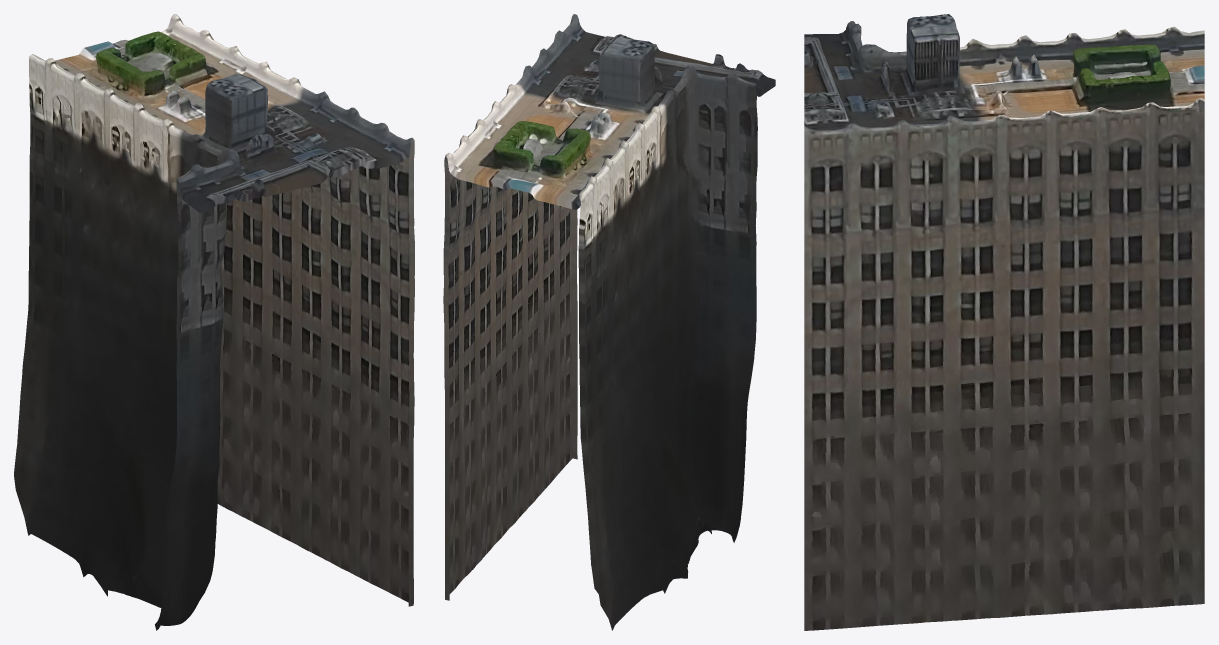
Rendered from z20-167763-405234-h1-yup-uvflip-v3-world.glb.
3 renders of one model, left to right at view 1: azimuth 30°, elevation 25°; view 2: azimuth 150°, elevation 25°; view 3: azimuth 270°, elevation 25°, orthographic. The views are drawn at different scales.
Size of the model in its own units: 20.2 by 46.2 by 30.32.
1 material, 1 textured.
